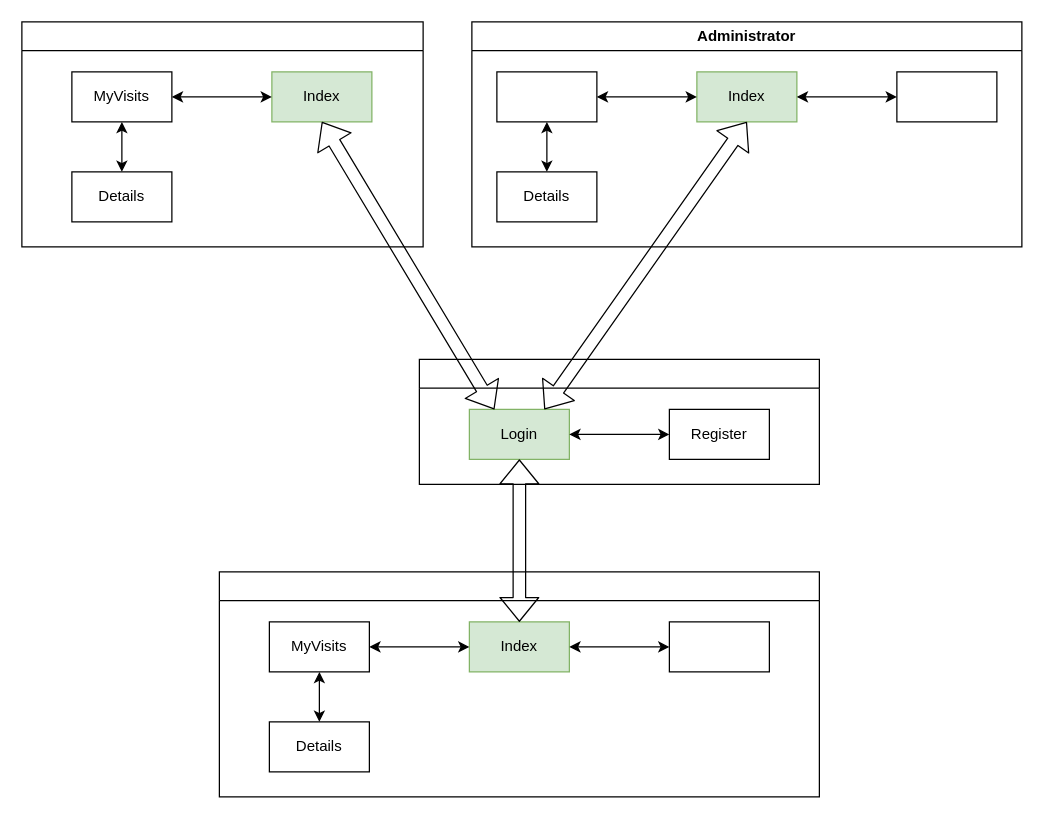
Image size: 1044x819. Some labels were removed from this diagram. Each missing label, with the box of its shape:
Gość: (418, 358, 819, 484)
Klient: (218, 571, 819, 797)
Lekarz: (21, 21, 423, 247)
SignUp: (668, 621, 769, 672)
Specializations: (896, 71, 997, 122)
Users: (496, 71, 597, 122)
